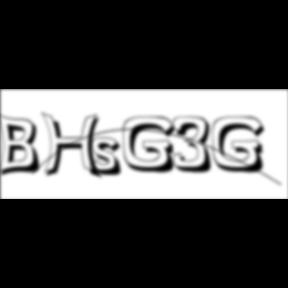3: (173, 116, 219, 176)
B: (0, 111, 46, 179)
G: (124, 116, 182, 176), (212, 116, 270, 176)
H: (41, 112, 107, 182)
s: (90, 137, 130, 179)
